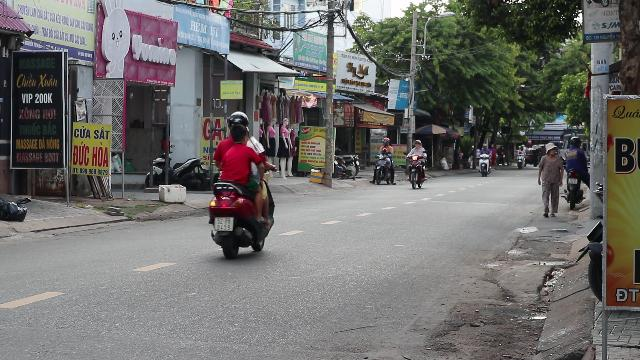helmet: (227, 111, 249, 125)
licenseplate: (214, 217, 233, 231)
motorcyclist: (205, 110, 275, 257)
nohelmet: (228, 123, 250, 145)
